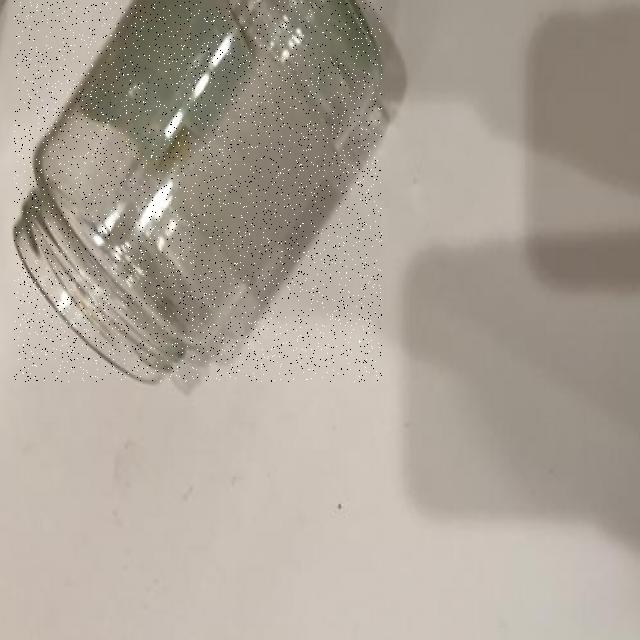glass: (14, 0, 382, 382)
